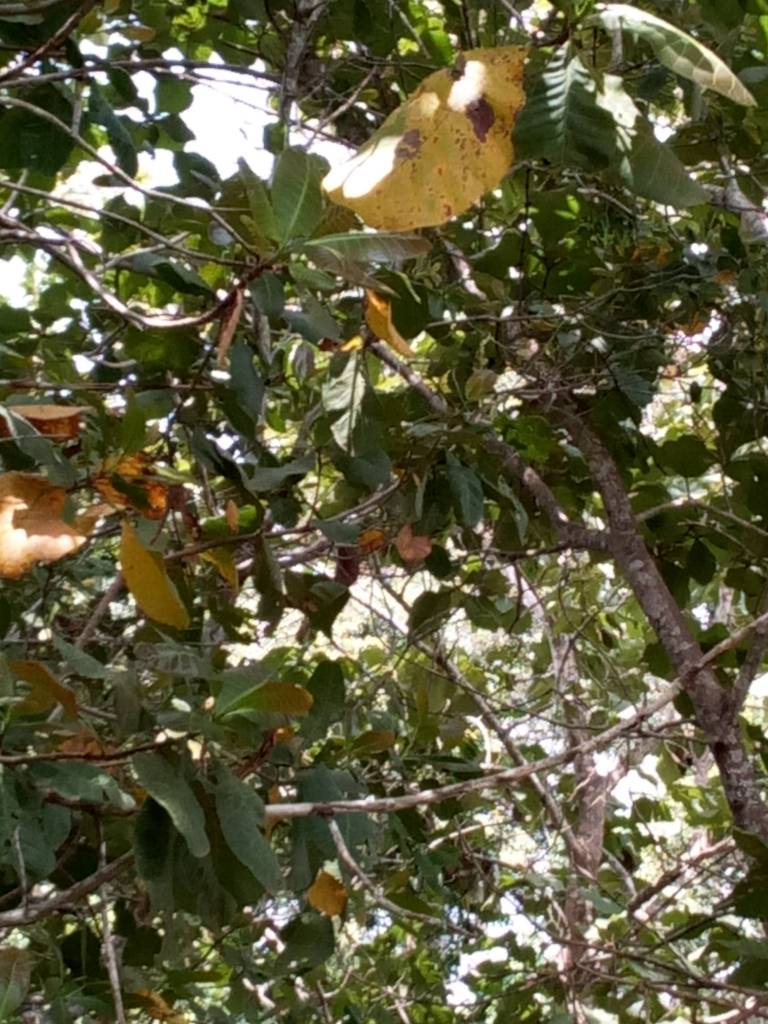Pestalotiose: (325, 36, 527, 219)
